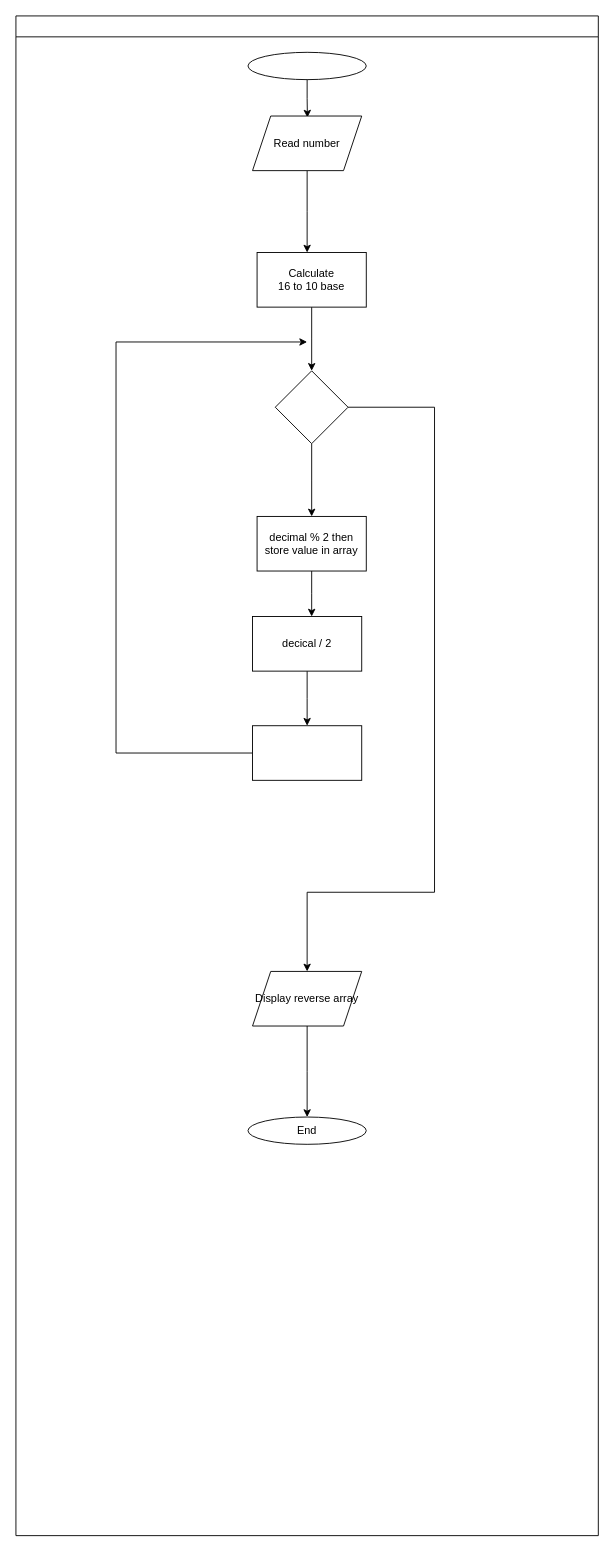
Image size: 614x1552. Some labels were removed from this diagram. Here are the shapes that lost their labels. From the top down, the box of each, then its label:
(247, 51, 366, 80): Start
(274, 370, 348, 444): decimal > 0
(252, 725, 362, 780): for next index to store another value
